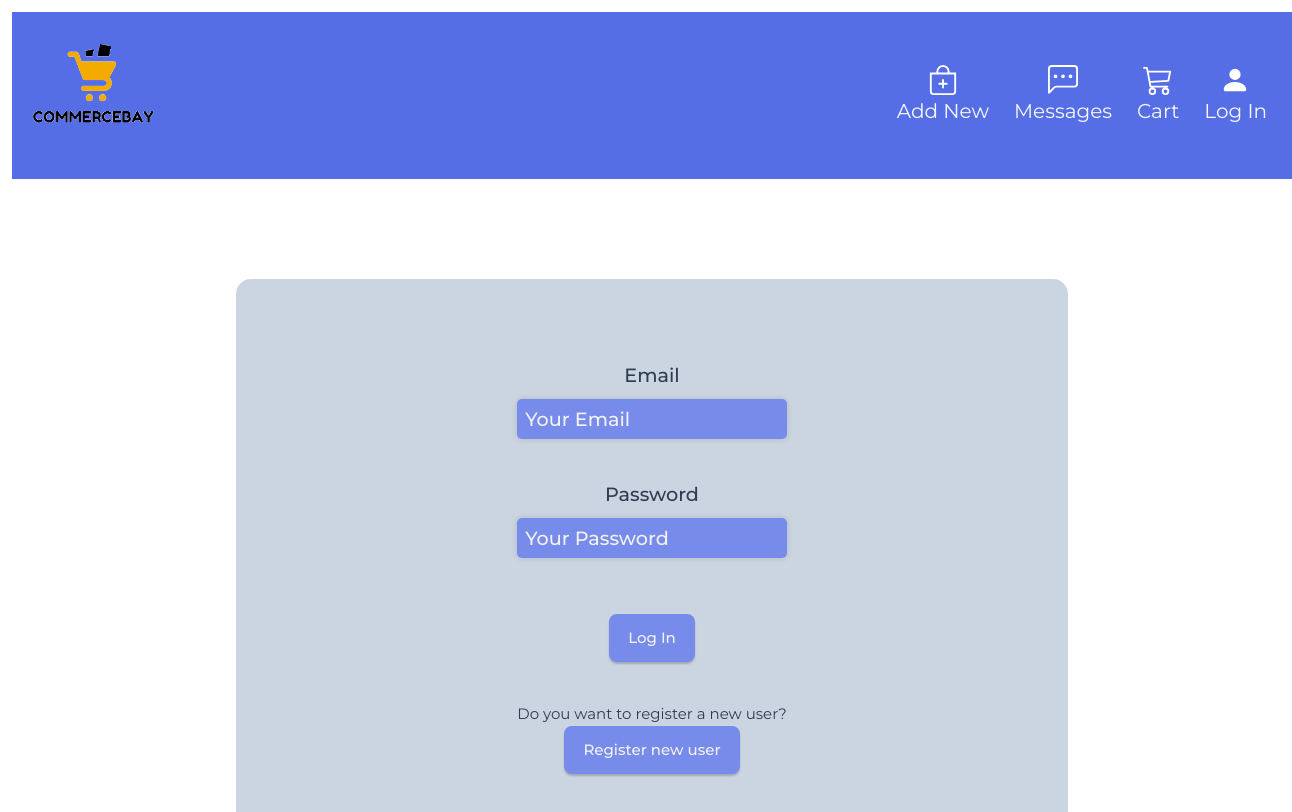
it: User Login › shows an error message when login fails
Type "user@example.com" into the field with placeholder "Your Email" at (652,419), box [517,399,786,439]
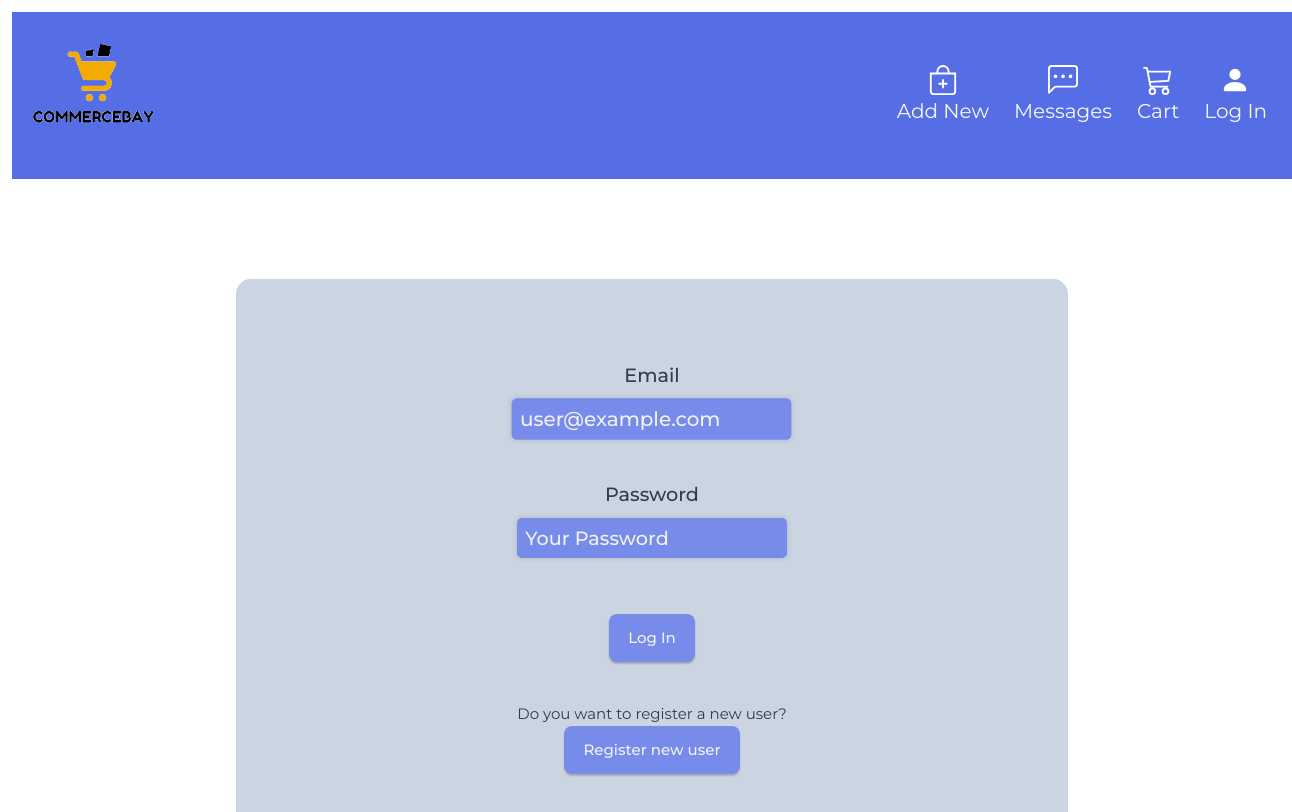
Type "UserPassword123" into the password field labelled "Email" at (652,538), box [517,518,786,558]
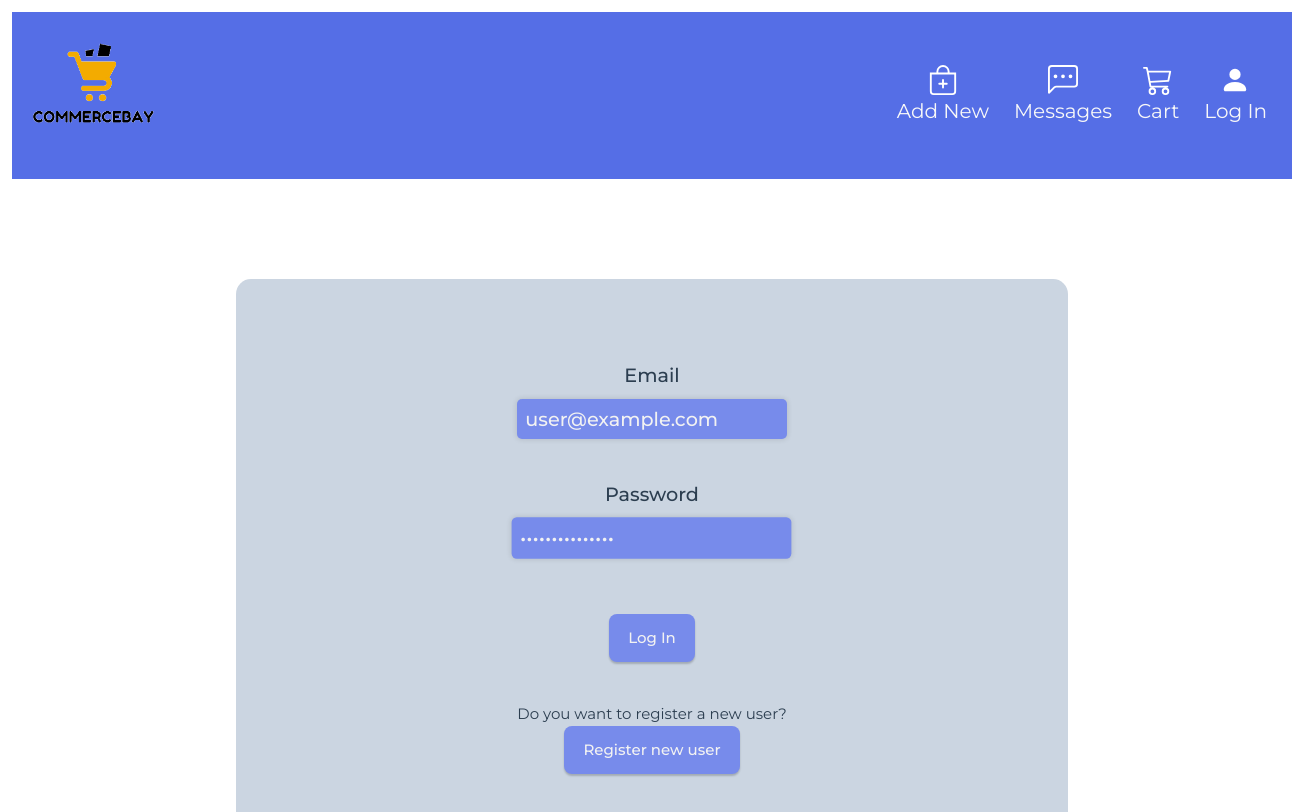
Click the button "Log In" at (652,638), box [609,614,695,662]
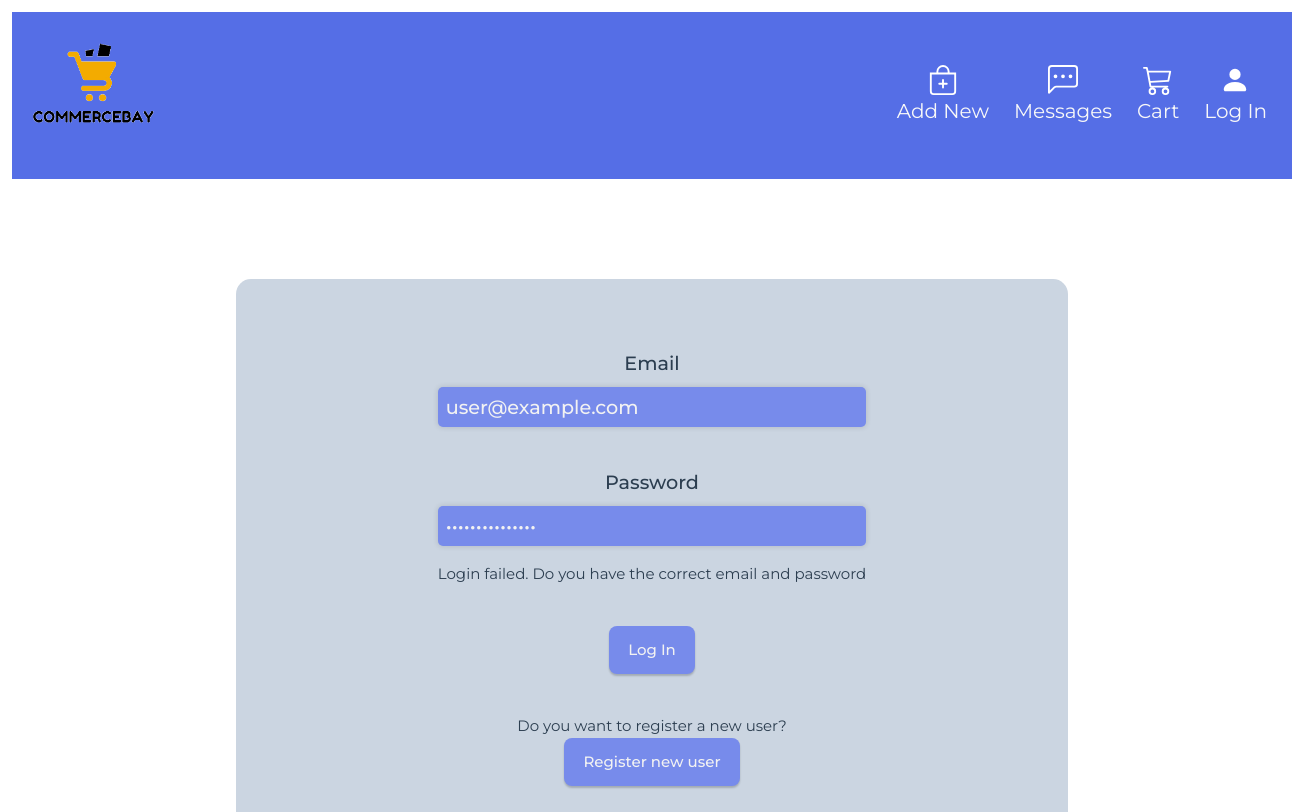
Result: the text "Login failed. Do you have the correct email and password" is shown at [438,562,866,586]
